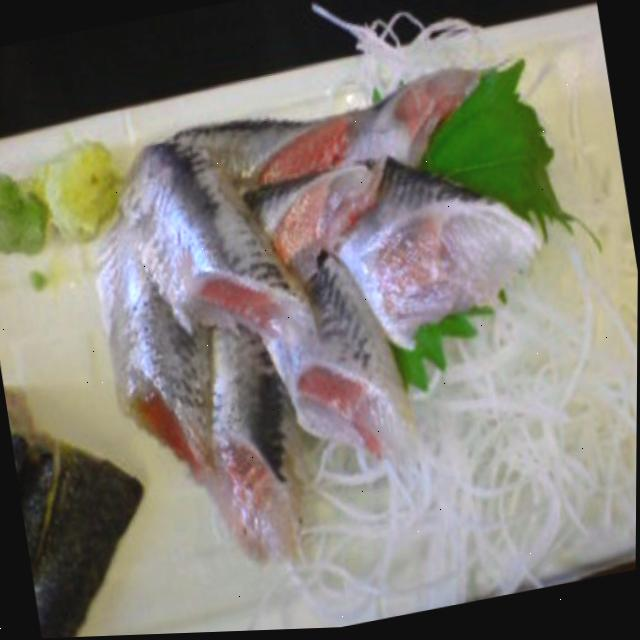刺身生食: (53, 158, 447, 638)
